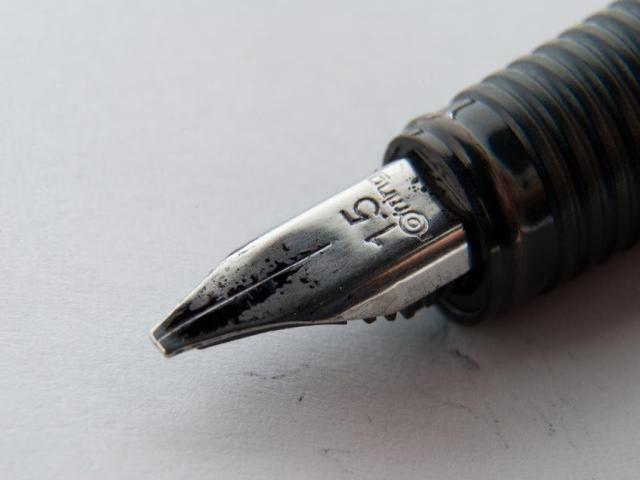PEN: (107, 19, 640, 383)
